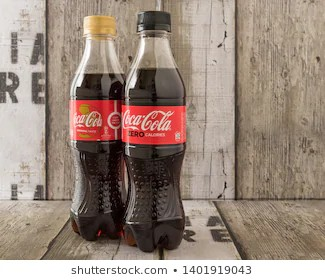coke-bottle-700ml: (64, 12, 130, 244)
coke-diet/zero-bottle-700ml: (120, 9, 189, 251)
